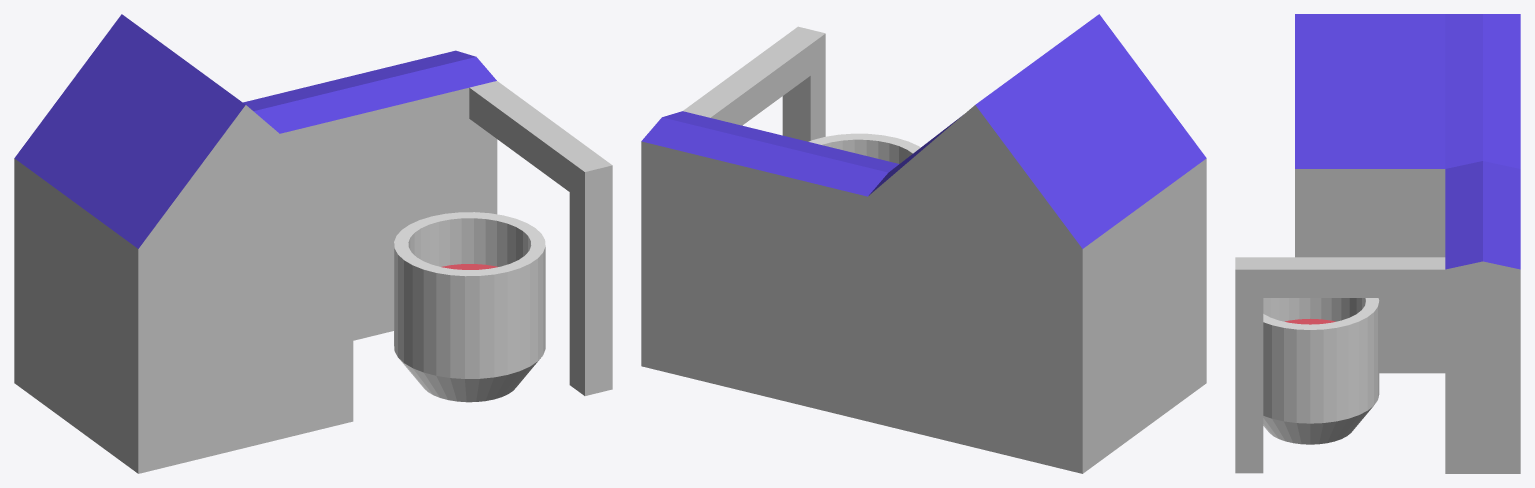
The model's file is grill.fbx.
3 views of the same model, side by side, from view 1: azimuth 30°, elevation 25°; view 2: azimuth 150°, elevation 25°; view 3: azimuth 270°, elevation 25° (orthographic). The views are drawn at different scales.
Visible parts, largest first — view 1: Cube, Cylinder; view 2: Cube, Cylinder; view 3: Cube, Cylinder.
Part boxes in pixels (x1,y1,x2,y2): Cube: [14, 14, 612, 473]; Cylinder: [394, 212, 545, 402]; Cube: [641, 14, 1206, 473]; Cylinder: [808, 133, 920, 163]; Cube: [1235, 14, 1520, 473]; Cylinder: [1263, 298, 1379, 444].
Size of the model in its own units: 411 by 305 by 253.
